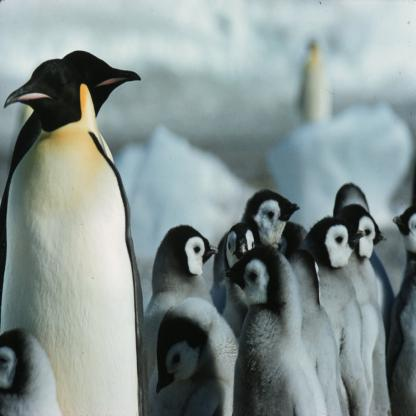Penguin: (0, 40, 157, 416), (0, 51, 144, 415), (323, 190, 405, 415), (295, 209, 384, 415), (223, 178, 316, 374), (143, 212, 233, 413), (225, 258, 333, 416), (207, 219, 281, 388), (150, 296, 252, 416), (0, 324, 68, 415)
